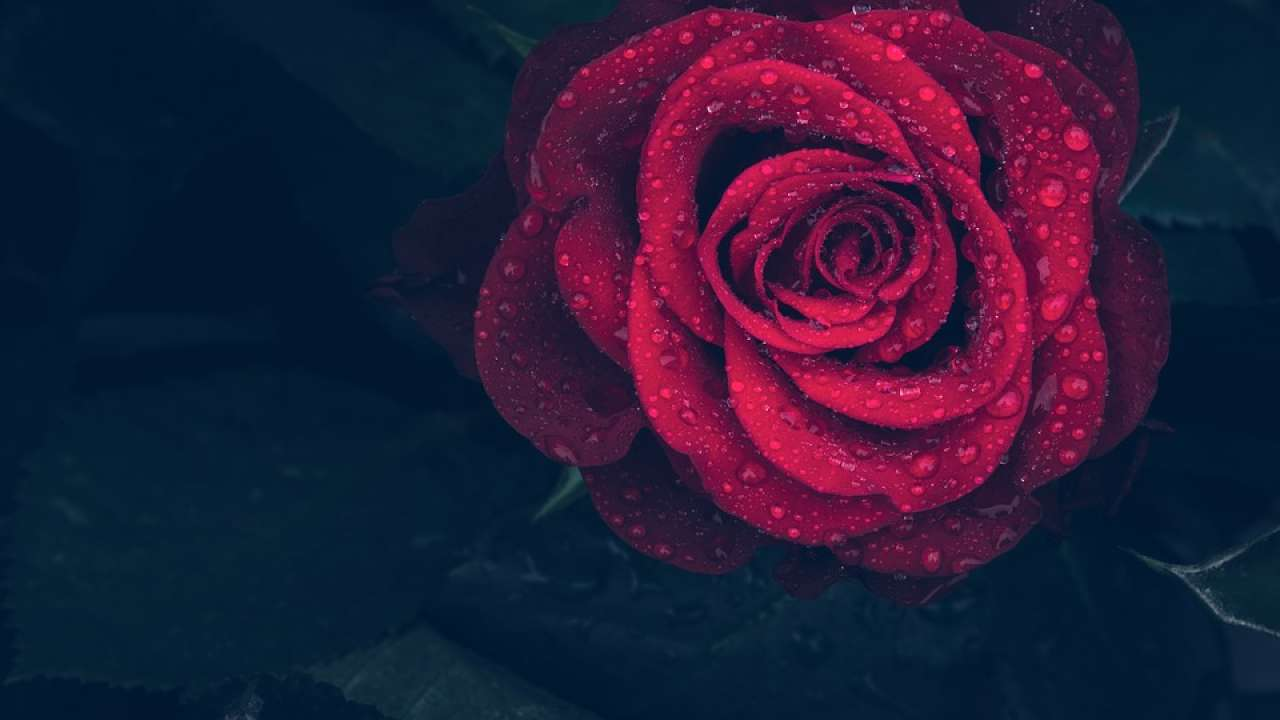rose: (454, 7, 1192, 605)
